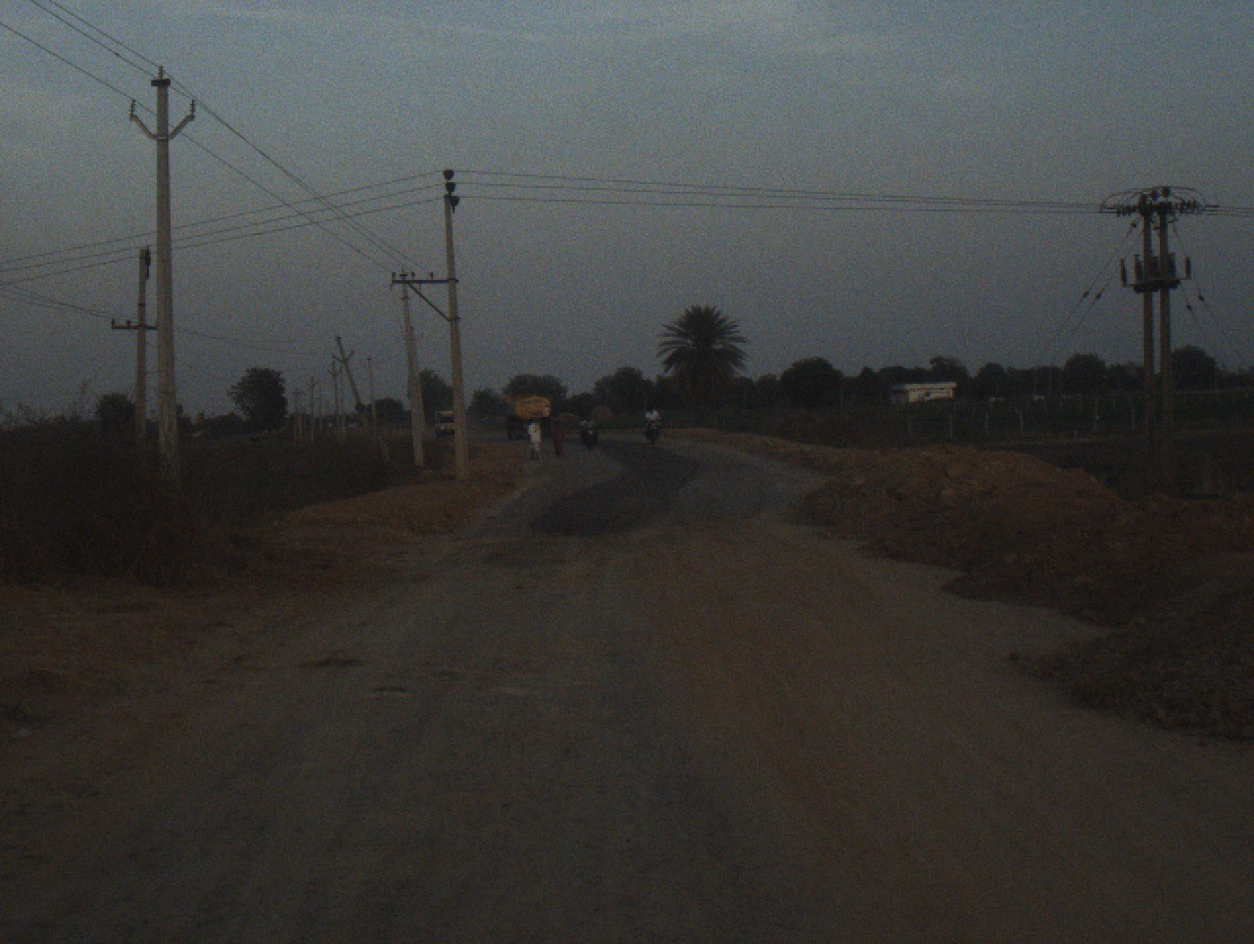car: (435, 404, 459, 435)
motorcycle: (642, 418, 667, 444), (581, 420, 598, 444)
person: (553, 411, 567, 463), (529, 413, 544, 459)
rider: (574, 402, 604, 448), (641, 404, 665, 433)
truck: (501, 392, 556, 435)
